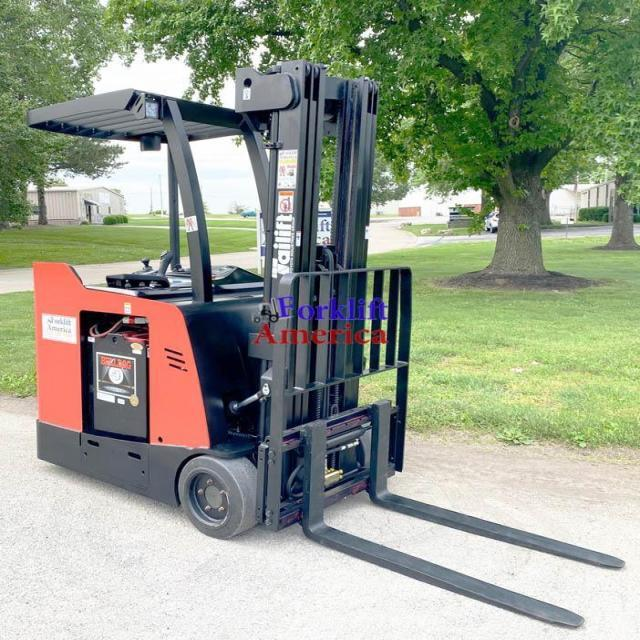forklift: (16, 48, 452, 585)
